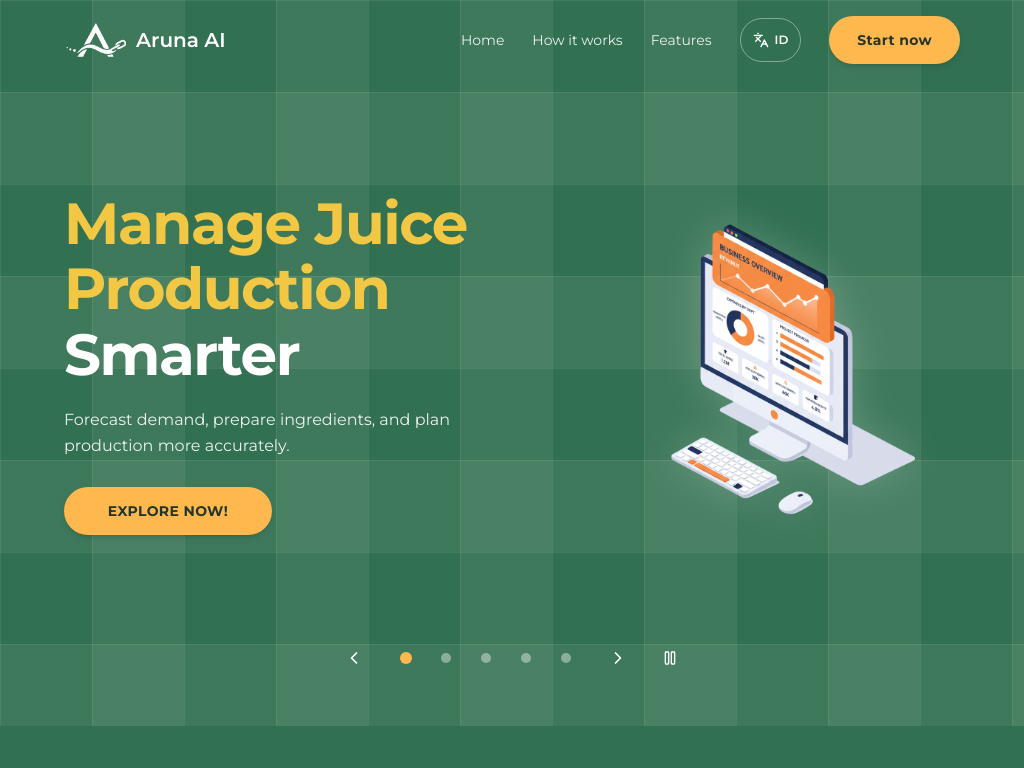
Test: inventory landing page › navigates all five slides and uses the corresponding local assets
Click the button named "Next slide": point(618, 658) 598,638 -> 638,678
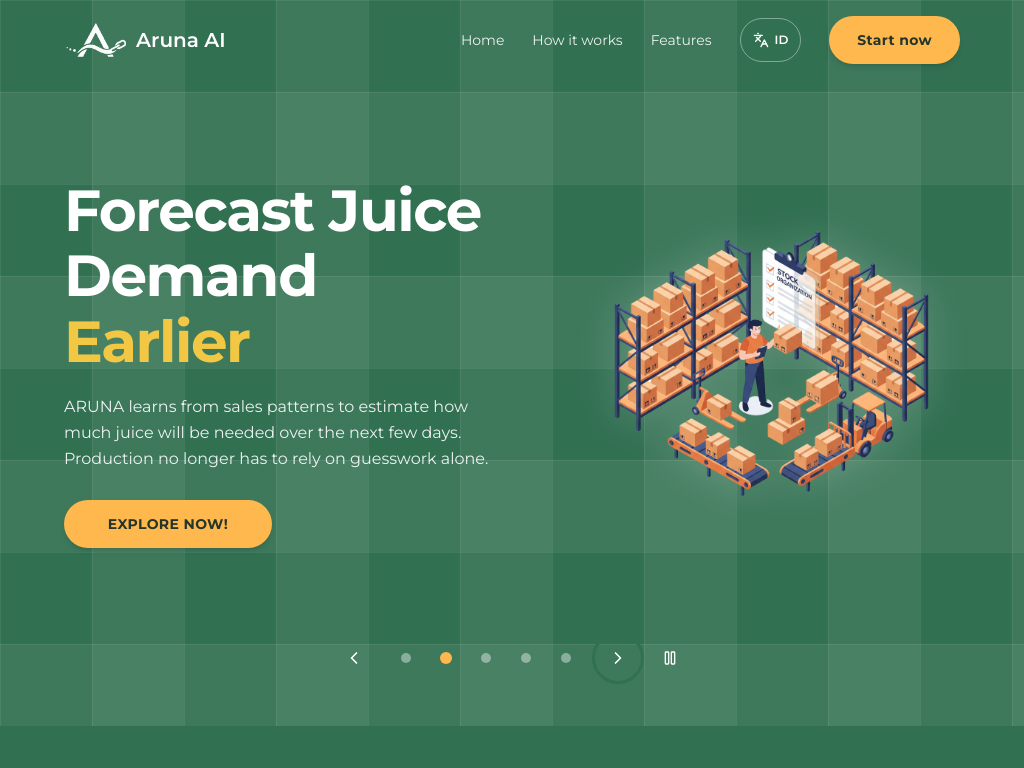
Expected: the heading shows "Forecast Juice Demand", 64,175 -> 481,311
Expected: the text "Production no longer has to rely on guesswork alone" is shown, 64,397 -> 488,468
Click the button named "Go to slide 5": point(566, 658) 546,638 -> 586,678
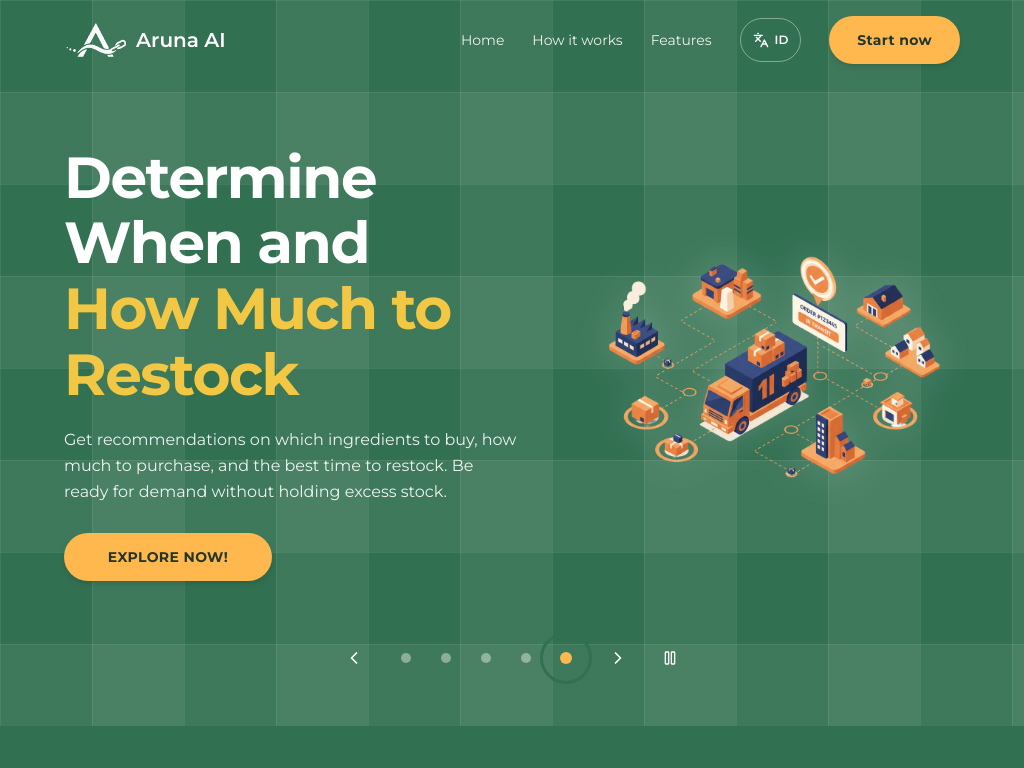
Expected: the heading shows "Determine When and", 64,142 -> 376,278
Click the button named "Next slide": point(618, 658) 598,638 -> 638,678
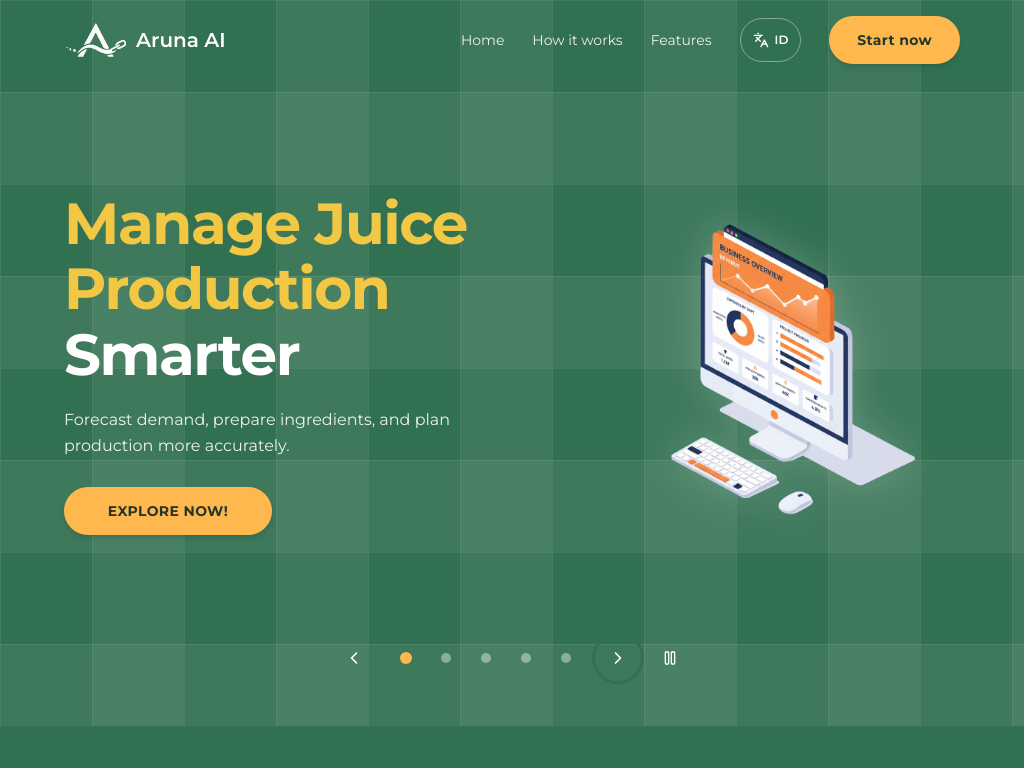
Expected: the heading shows "Manage Juice Production", 64,188 -> 467,324
Click the button named "Previous slide": point(354, 658) 334,638 -> 374,678
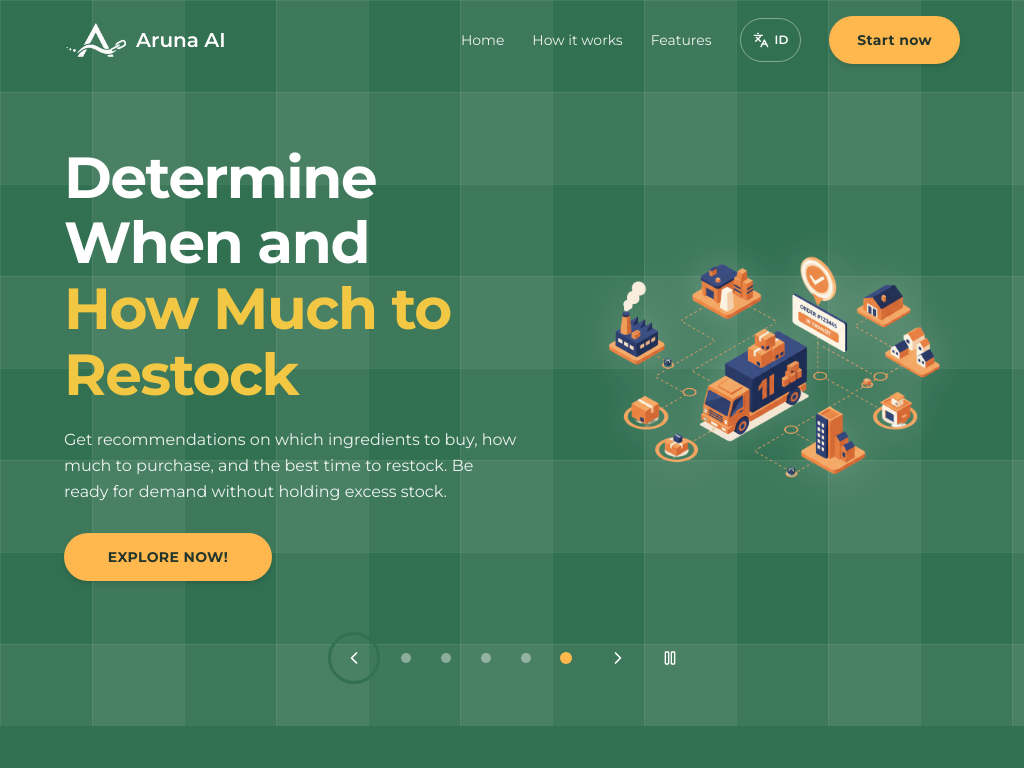
Expected: the heading shows "Determine When and", 64,142 -> 376,278
